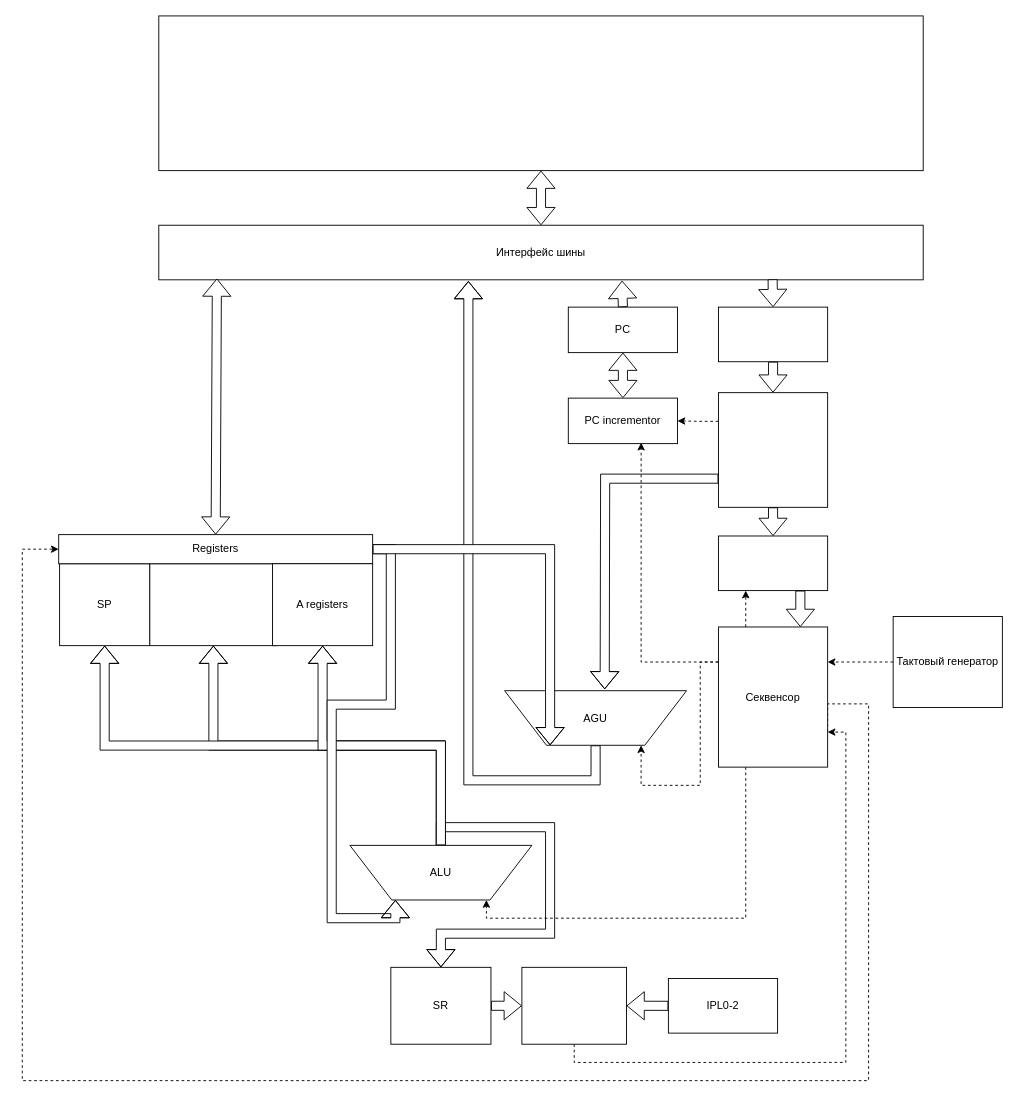
This 1018x1104 diagram has some shape labels left out. The centre of each missing label's shape, as x and y in pixels:
D registers: (213,604)
Внешняя память: (540,93)
Декодер: (773,449)
Контроллер прерываний: (574,1005)
Очередь предвыборки: (773,334)
Память микрокоманд: (773,563)
